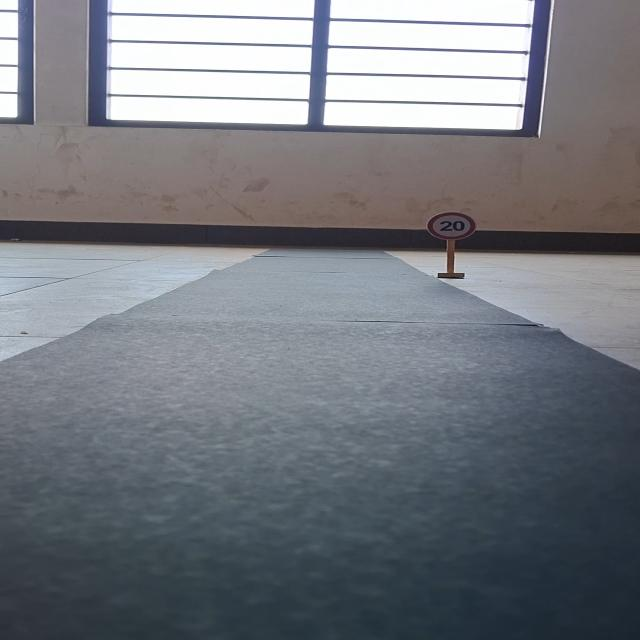Speed20: (419, 209, 484, 243)
